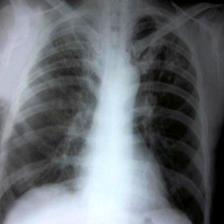tuberculosis: (1, 1, 214, 224)
